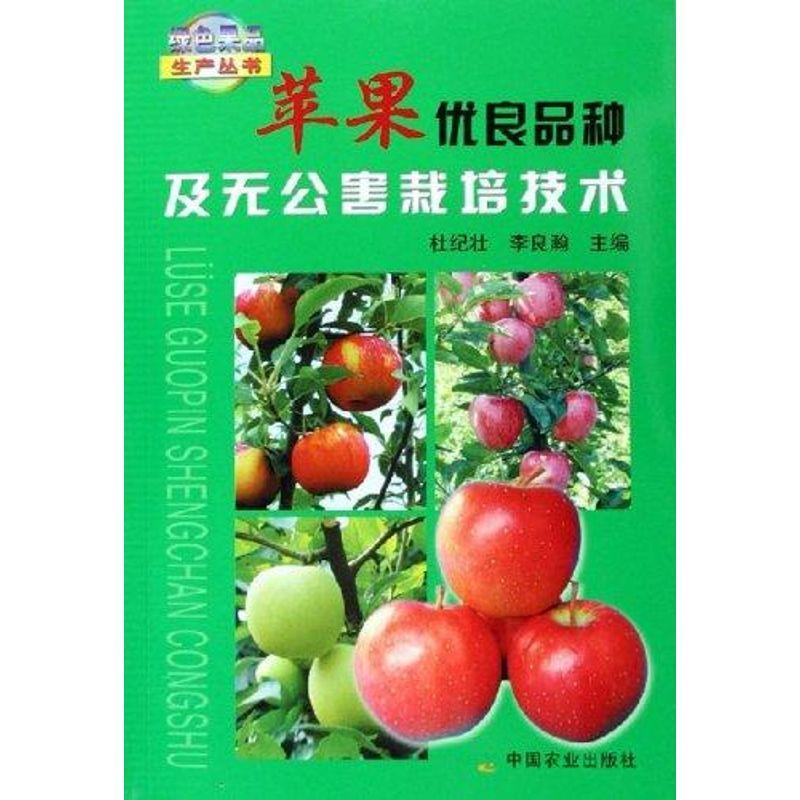apple: (347, 597, 502, 747), (434, 482, 581, 620), (501, 600, 645, 736), (244, 558, 341, 662), (303, 639, 382, 736), (323, 330, 405, 412), (288, 420, 369, 493), (235, 279, 300, 347), (471, 389, 525, 452), (232, 443, 278, 508), (512, 274, 566, 329), (548, 389, 601, 441), (489, 317, 533, 365)
